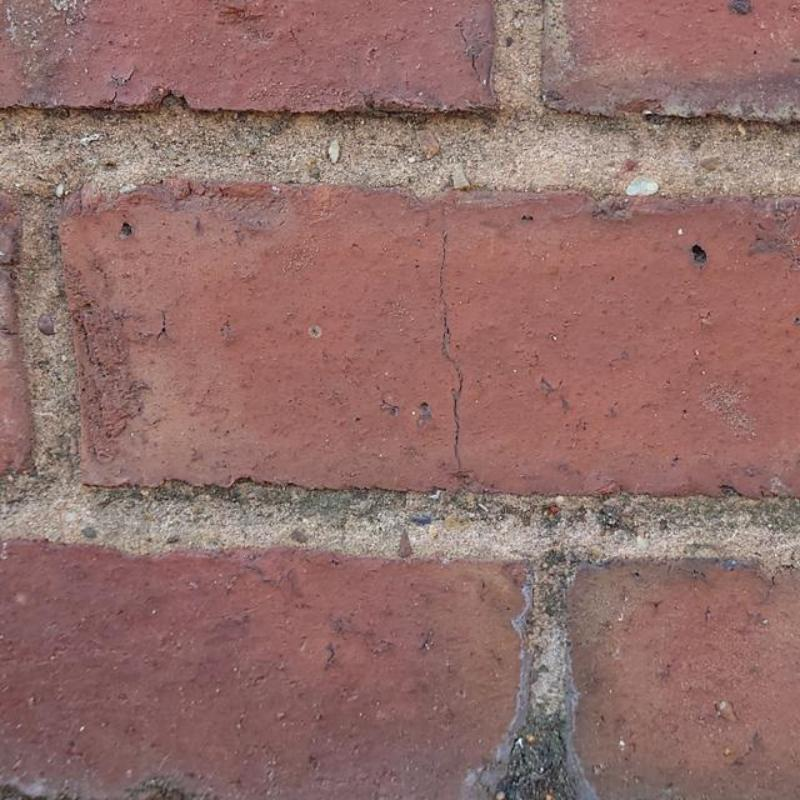pothole: (438, 204, 464, 474)
